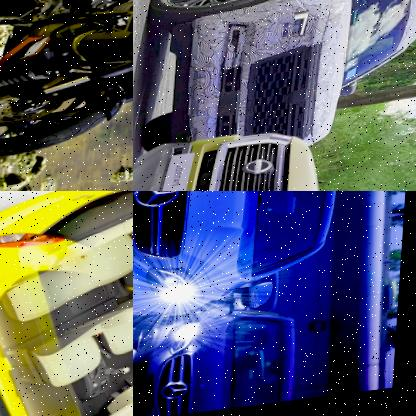car: (175, 0, 416, 146), (133, 191, 345, 338), (0, 191, 133, 416), (133, 122, 416, 191), (133, 308, 303, 416)
